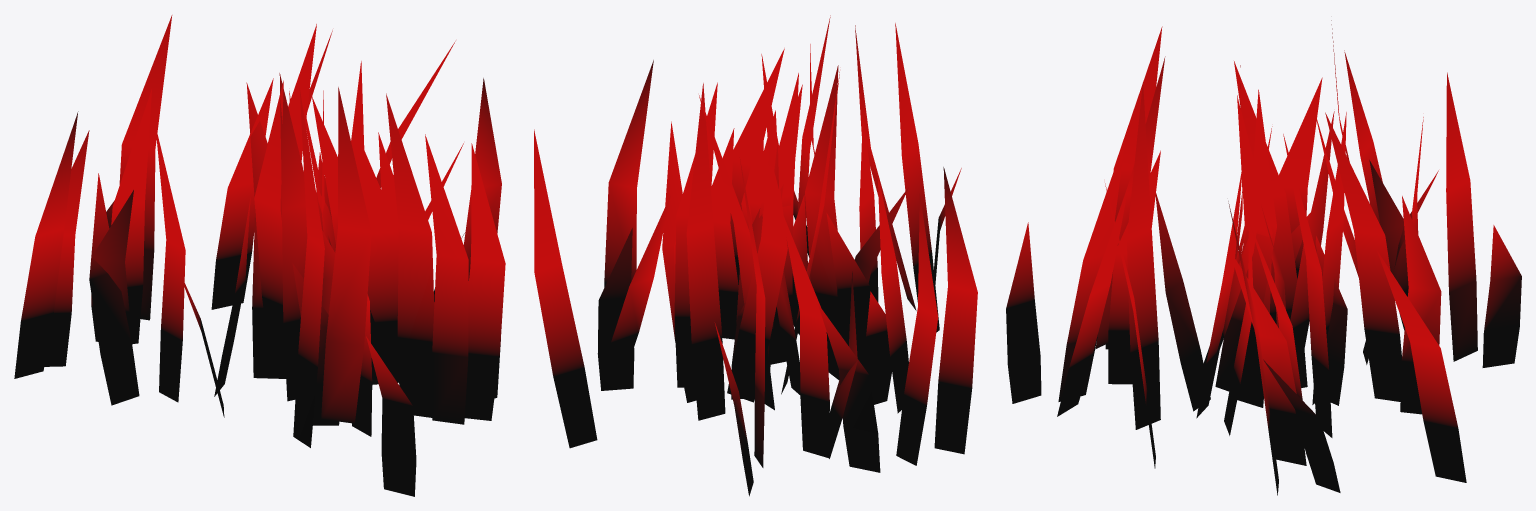
Rendered from Grasspoligon.fbx.
3 views of the same model, side by side, from view 1: azimuth 30°, elevation 25°; view 2: azimuth 150°, elevation 25°; view 3: azimuth 270°, elevation 25° (orthographic). The views are drawn at different scales.
Parts seen in each view (by area): view 1: Plane.019; view 2: Plane.019; view 3: Plane.019.
Part boxes in pixels (x1,y1,x2,y2): Plane.019: (14,15,505,496); Plane.019: (534,15,977,496); Plane.019: (1006,20,1521,495).
Bounding box in the file's own units: 94.33 × 96.04 × 76.35.
